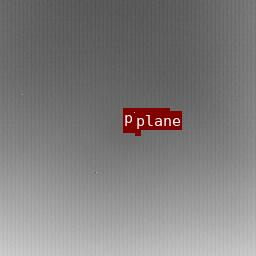plane: (123, 127, 134, 132), (135, 130, 140, 134)
